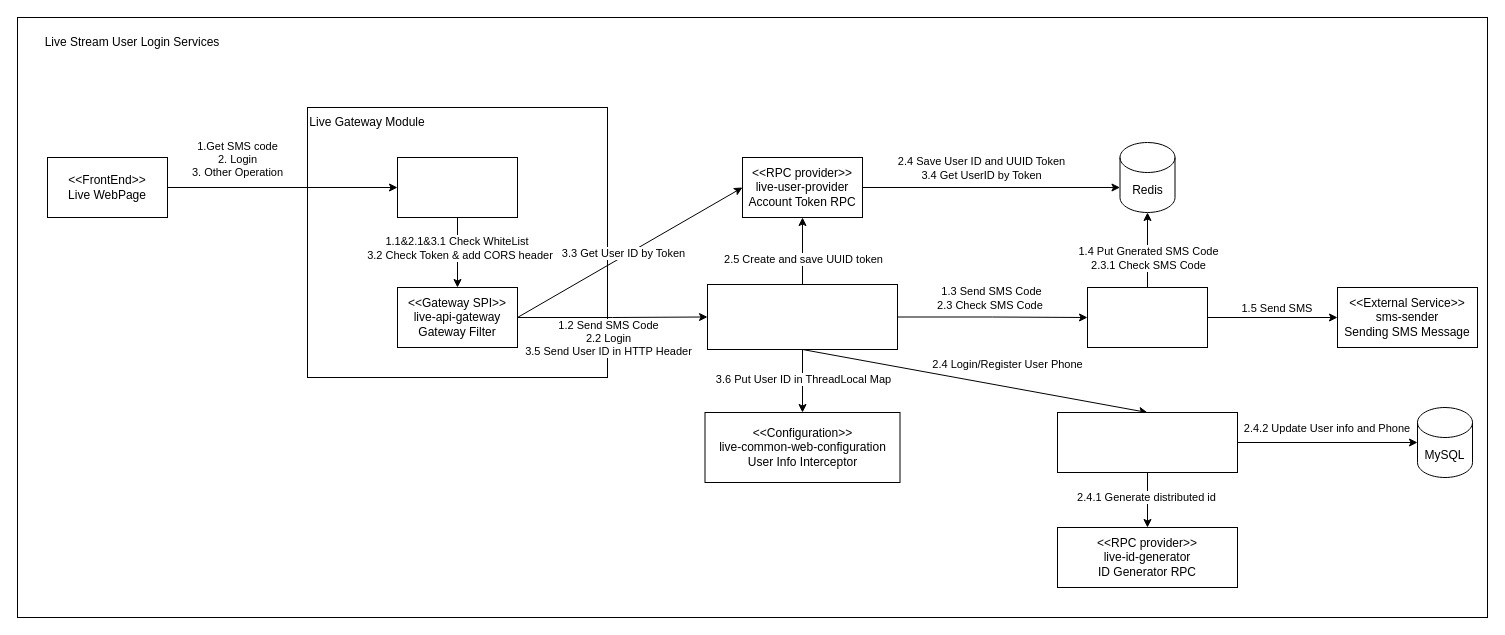
Image size: 1505x635. Some labels were removed from this diagram. The shapes that lost their labels are listed below. From the top down, each one's box as (x1, y1, x2, y2) in pixels, then its label:
(396, 156, 518, 218): <<Gateway API>> live-api-gateway Gateway API
(706, 284, 898, 350): <<Central API Controller>> live-api-controller User Login Controller
(1086, 286, 1208, 348): <<RPC provider>> live-user-provider Msg RPC
(1056, 412, 1238, 472): <<RPC provider>> live-user-provider User Phone RPC
